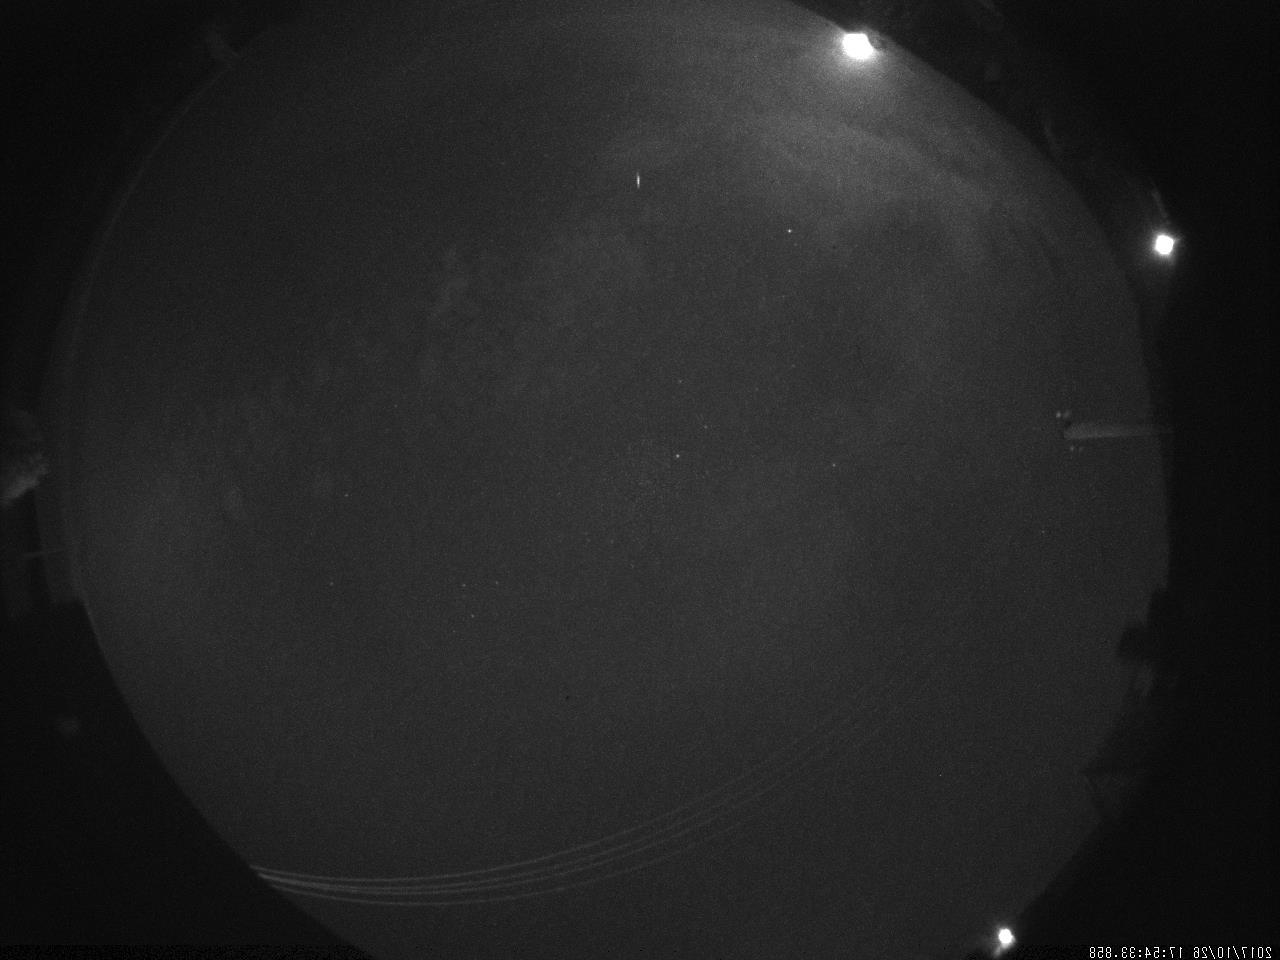meteor: (628, 169, 647, 193)
